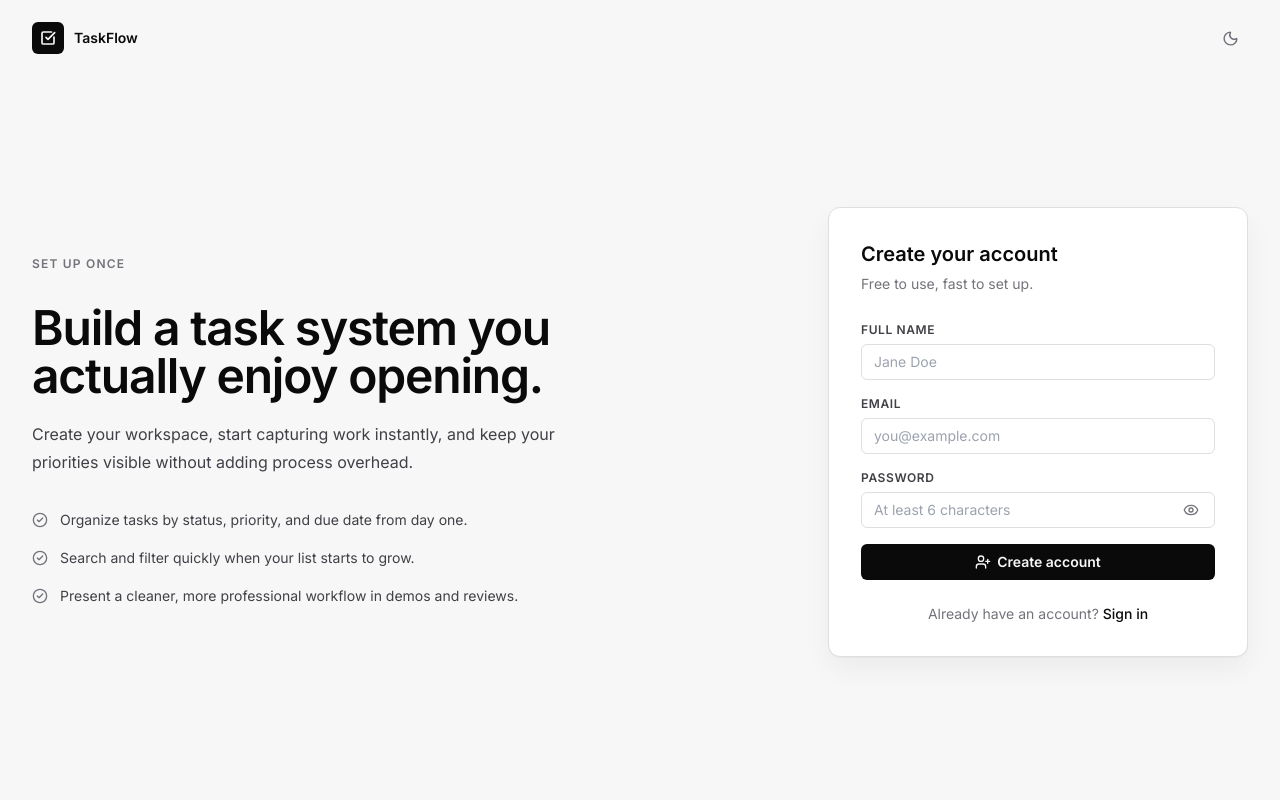
it: Accessibility Standards (WCAG 2.2 AA) › Semantic Form Accessibility › RegisterPage form controls have semantic labels, aria-invalid, and alert roles on errors
This screenshot has width=1280, height=800.
Check: the field labelled "Full name" is shown, box [861, 344, 1215, 380]
Check: the field labelled "Email" is shown, box [861, 418, 1215, 454]
Note: Submit empty form
Click the button "Create account" at (1038, 562), box [861, 544, 1215, 580]
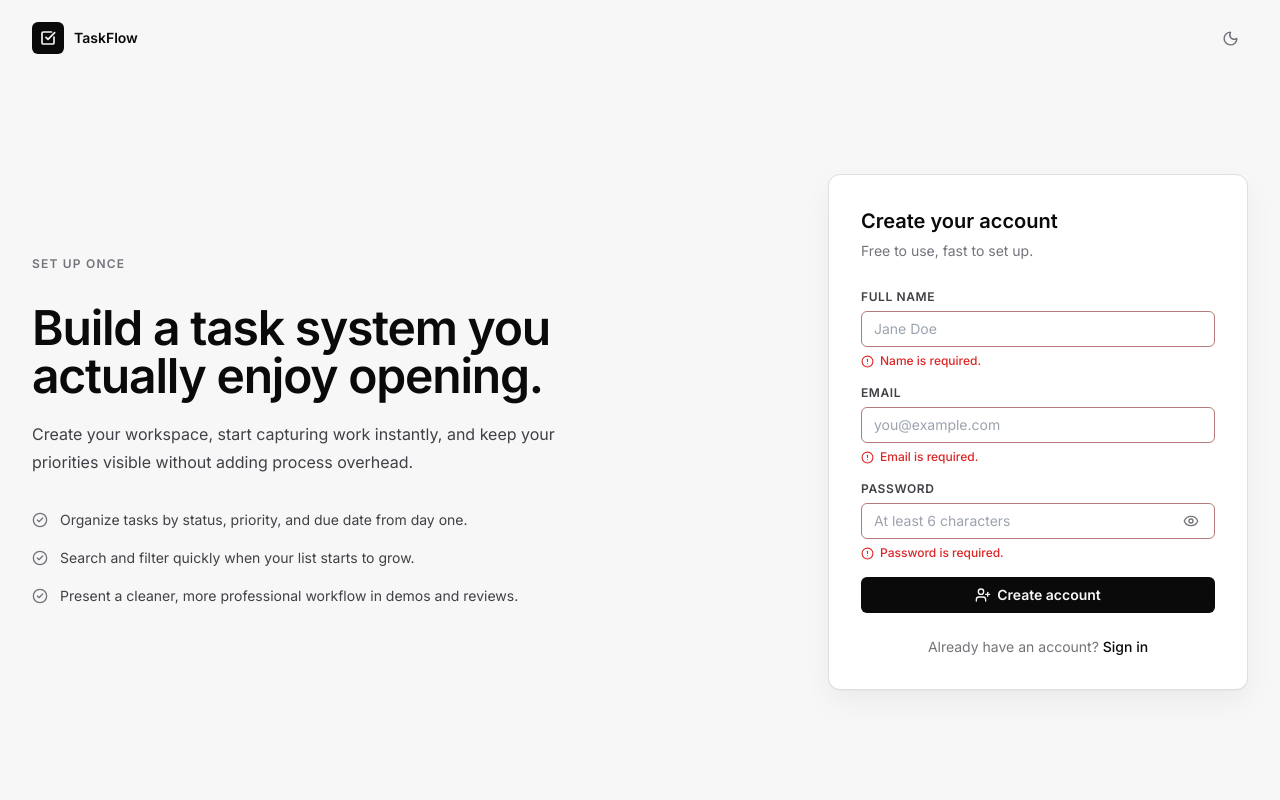
Check: the message "Name is required." is shown, box [861, 353, 981, 368]
